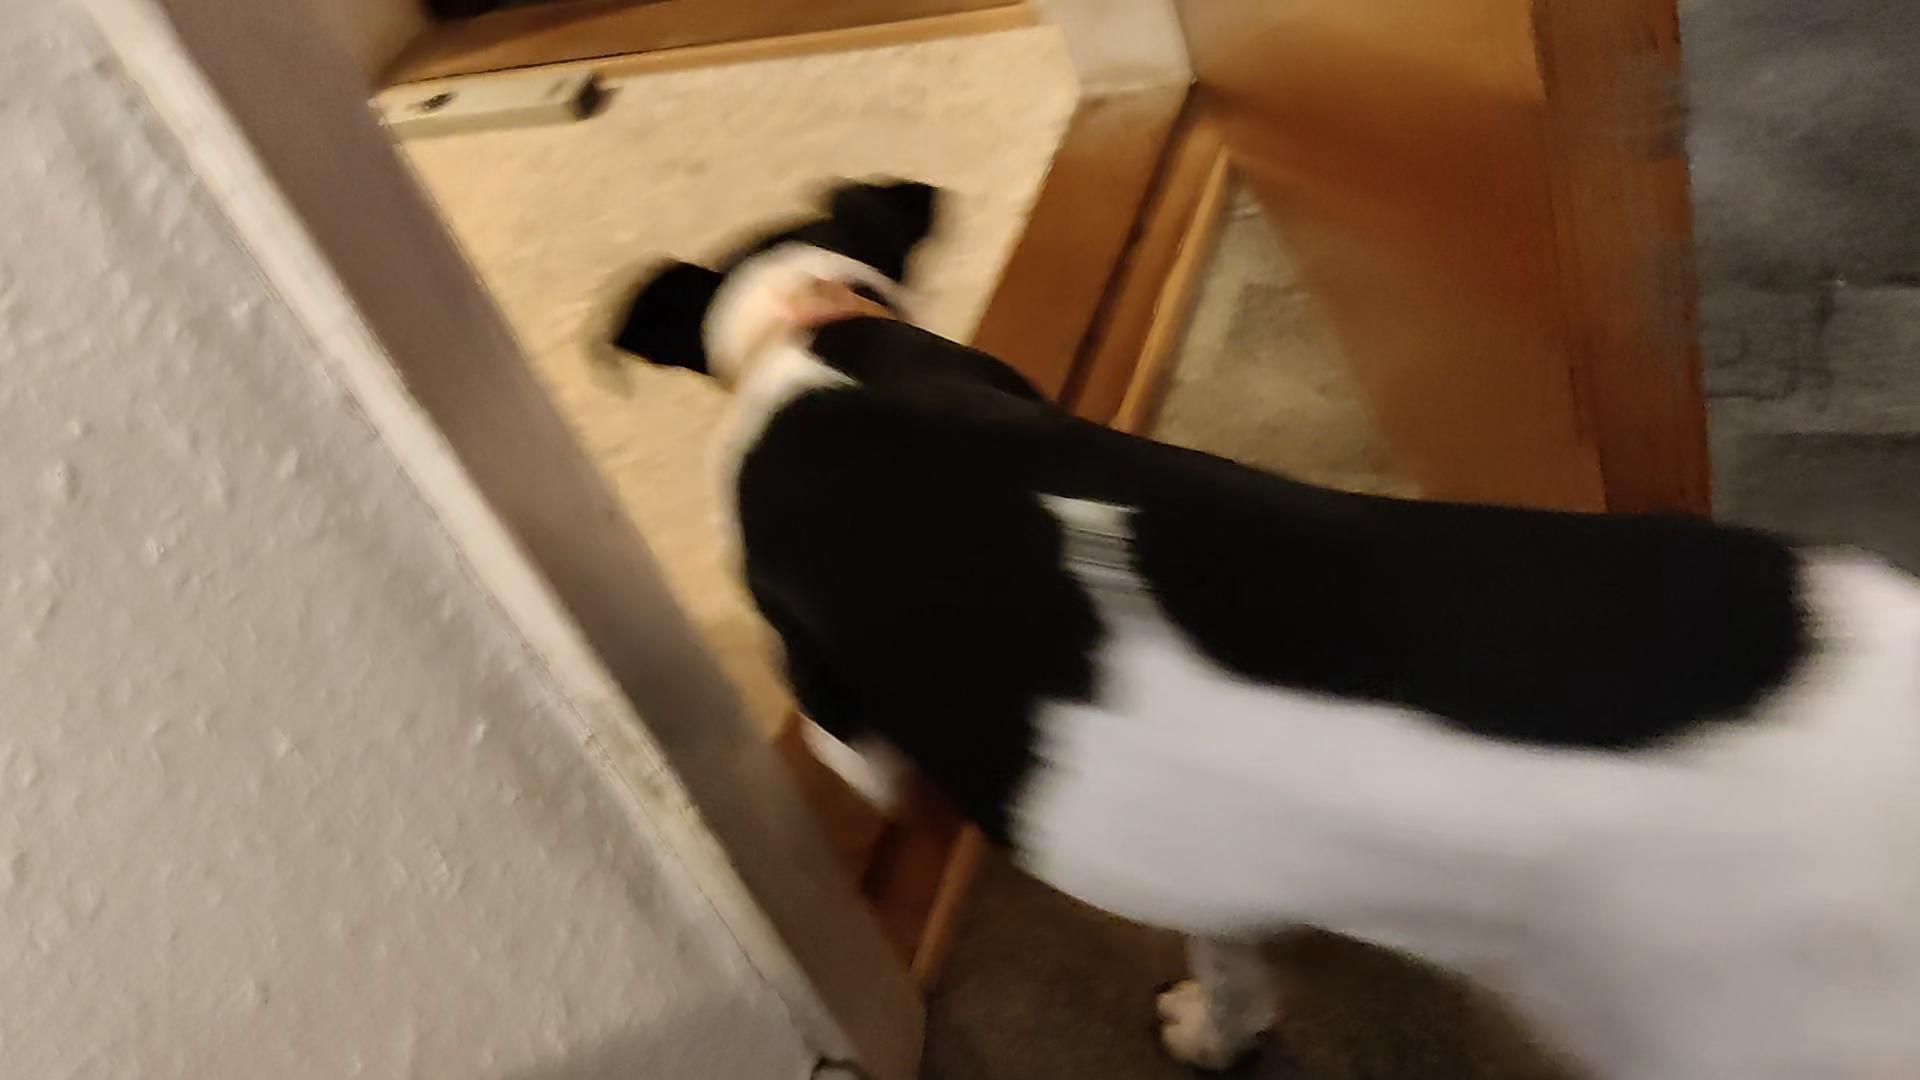Dog: (570, 156, 1919, 1079)
